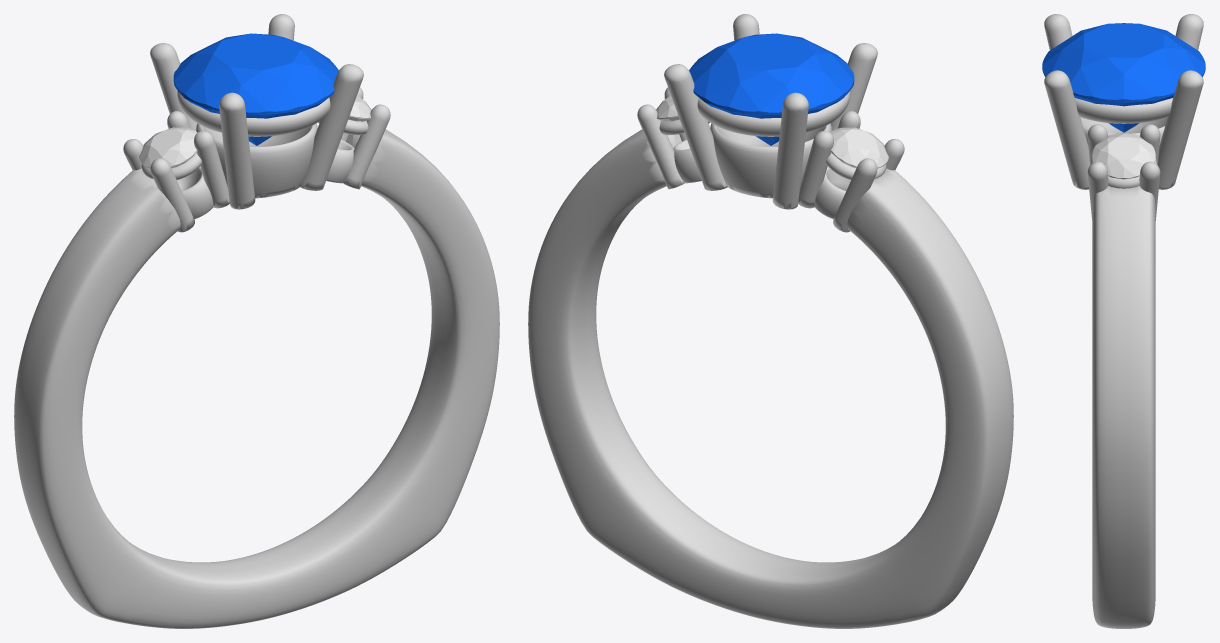
File: bluesapphire-round-platinum-4prong-europeanshank-2stone.glb
The picture shows the model from 3 angles, left to right: view 1: azimuth 30°, elevation 25°; view 2: azimuth 150°, elevation 25°; view 3: azimuth 270°, elevation 25°; orthographic projection. The views are drawn at different scales.
Parts seen in each view (by area): view 1: metal, stone, side.001; view 2: metal, stone, side.001; view 3: metal, stone, side.
Part boxes in pixels (<box>): metal: <box>14,14,499,628</box>; stone: <box>173,33,338,145</box>; side.001: <box>139,127,197,168</box>; metal: <box>528,14,1013,628</box>; stone: <box>689,33,854,145</box>; side.001: <box>830,127,888,168</box>; metal: <box>1044,14,1203,628</box>; stone: <box>1042,23,1205,132</box>; side: <box>1092,133,1155,179</box>.
Size of the model in its own units: 20.71 by 23.81 by 6.44.
